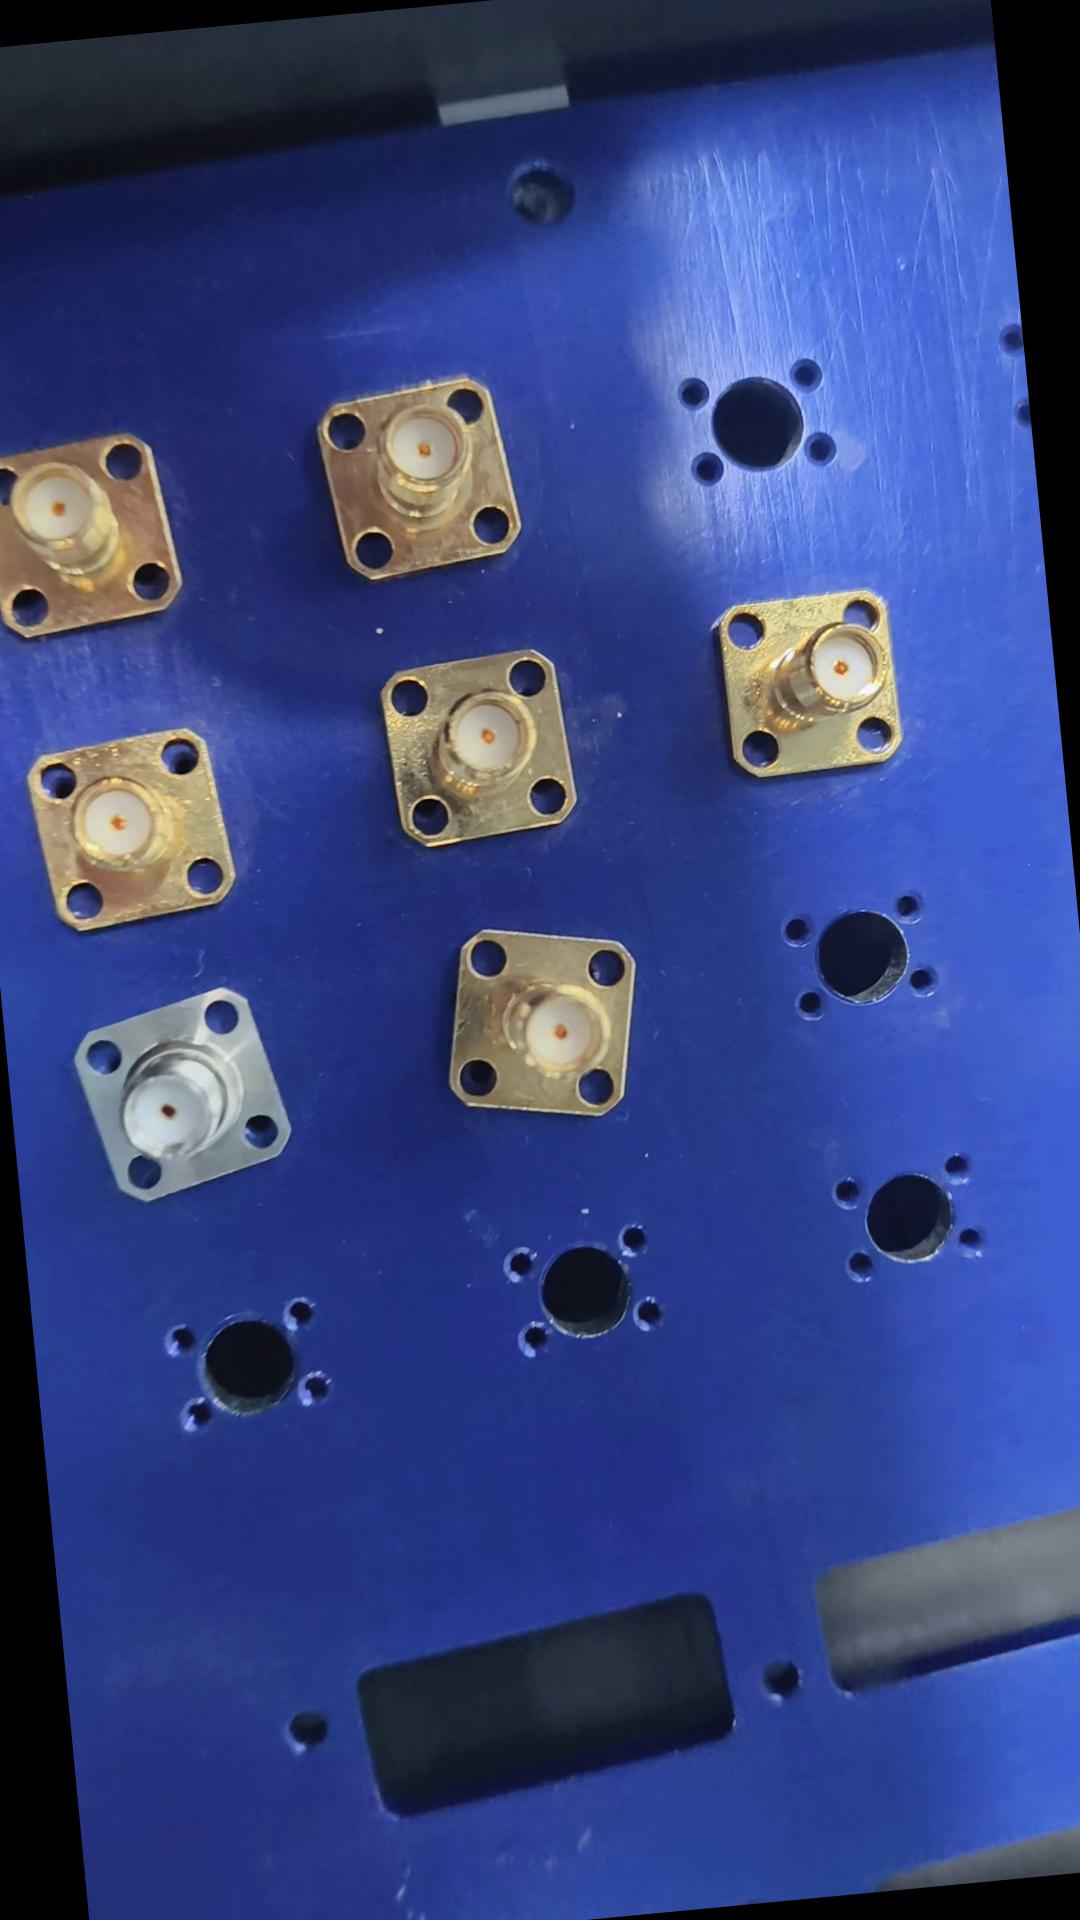SMA: (73, 973, 318, 1215), (32, 717, 252, 948), (371, 642, 600, 862), (435, 910, 662, 1131), (309, 368, 541, 582), (711, 579, 920, 787), (0, 439, 202, 651)
